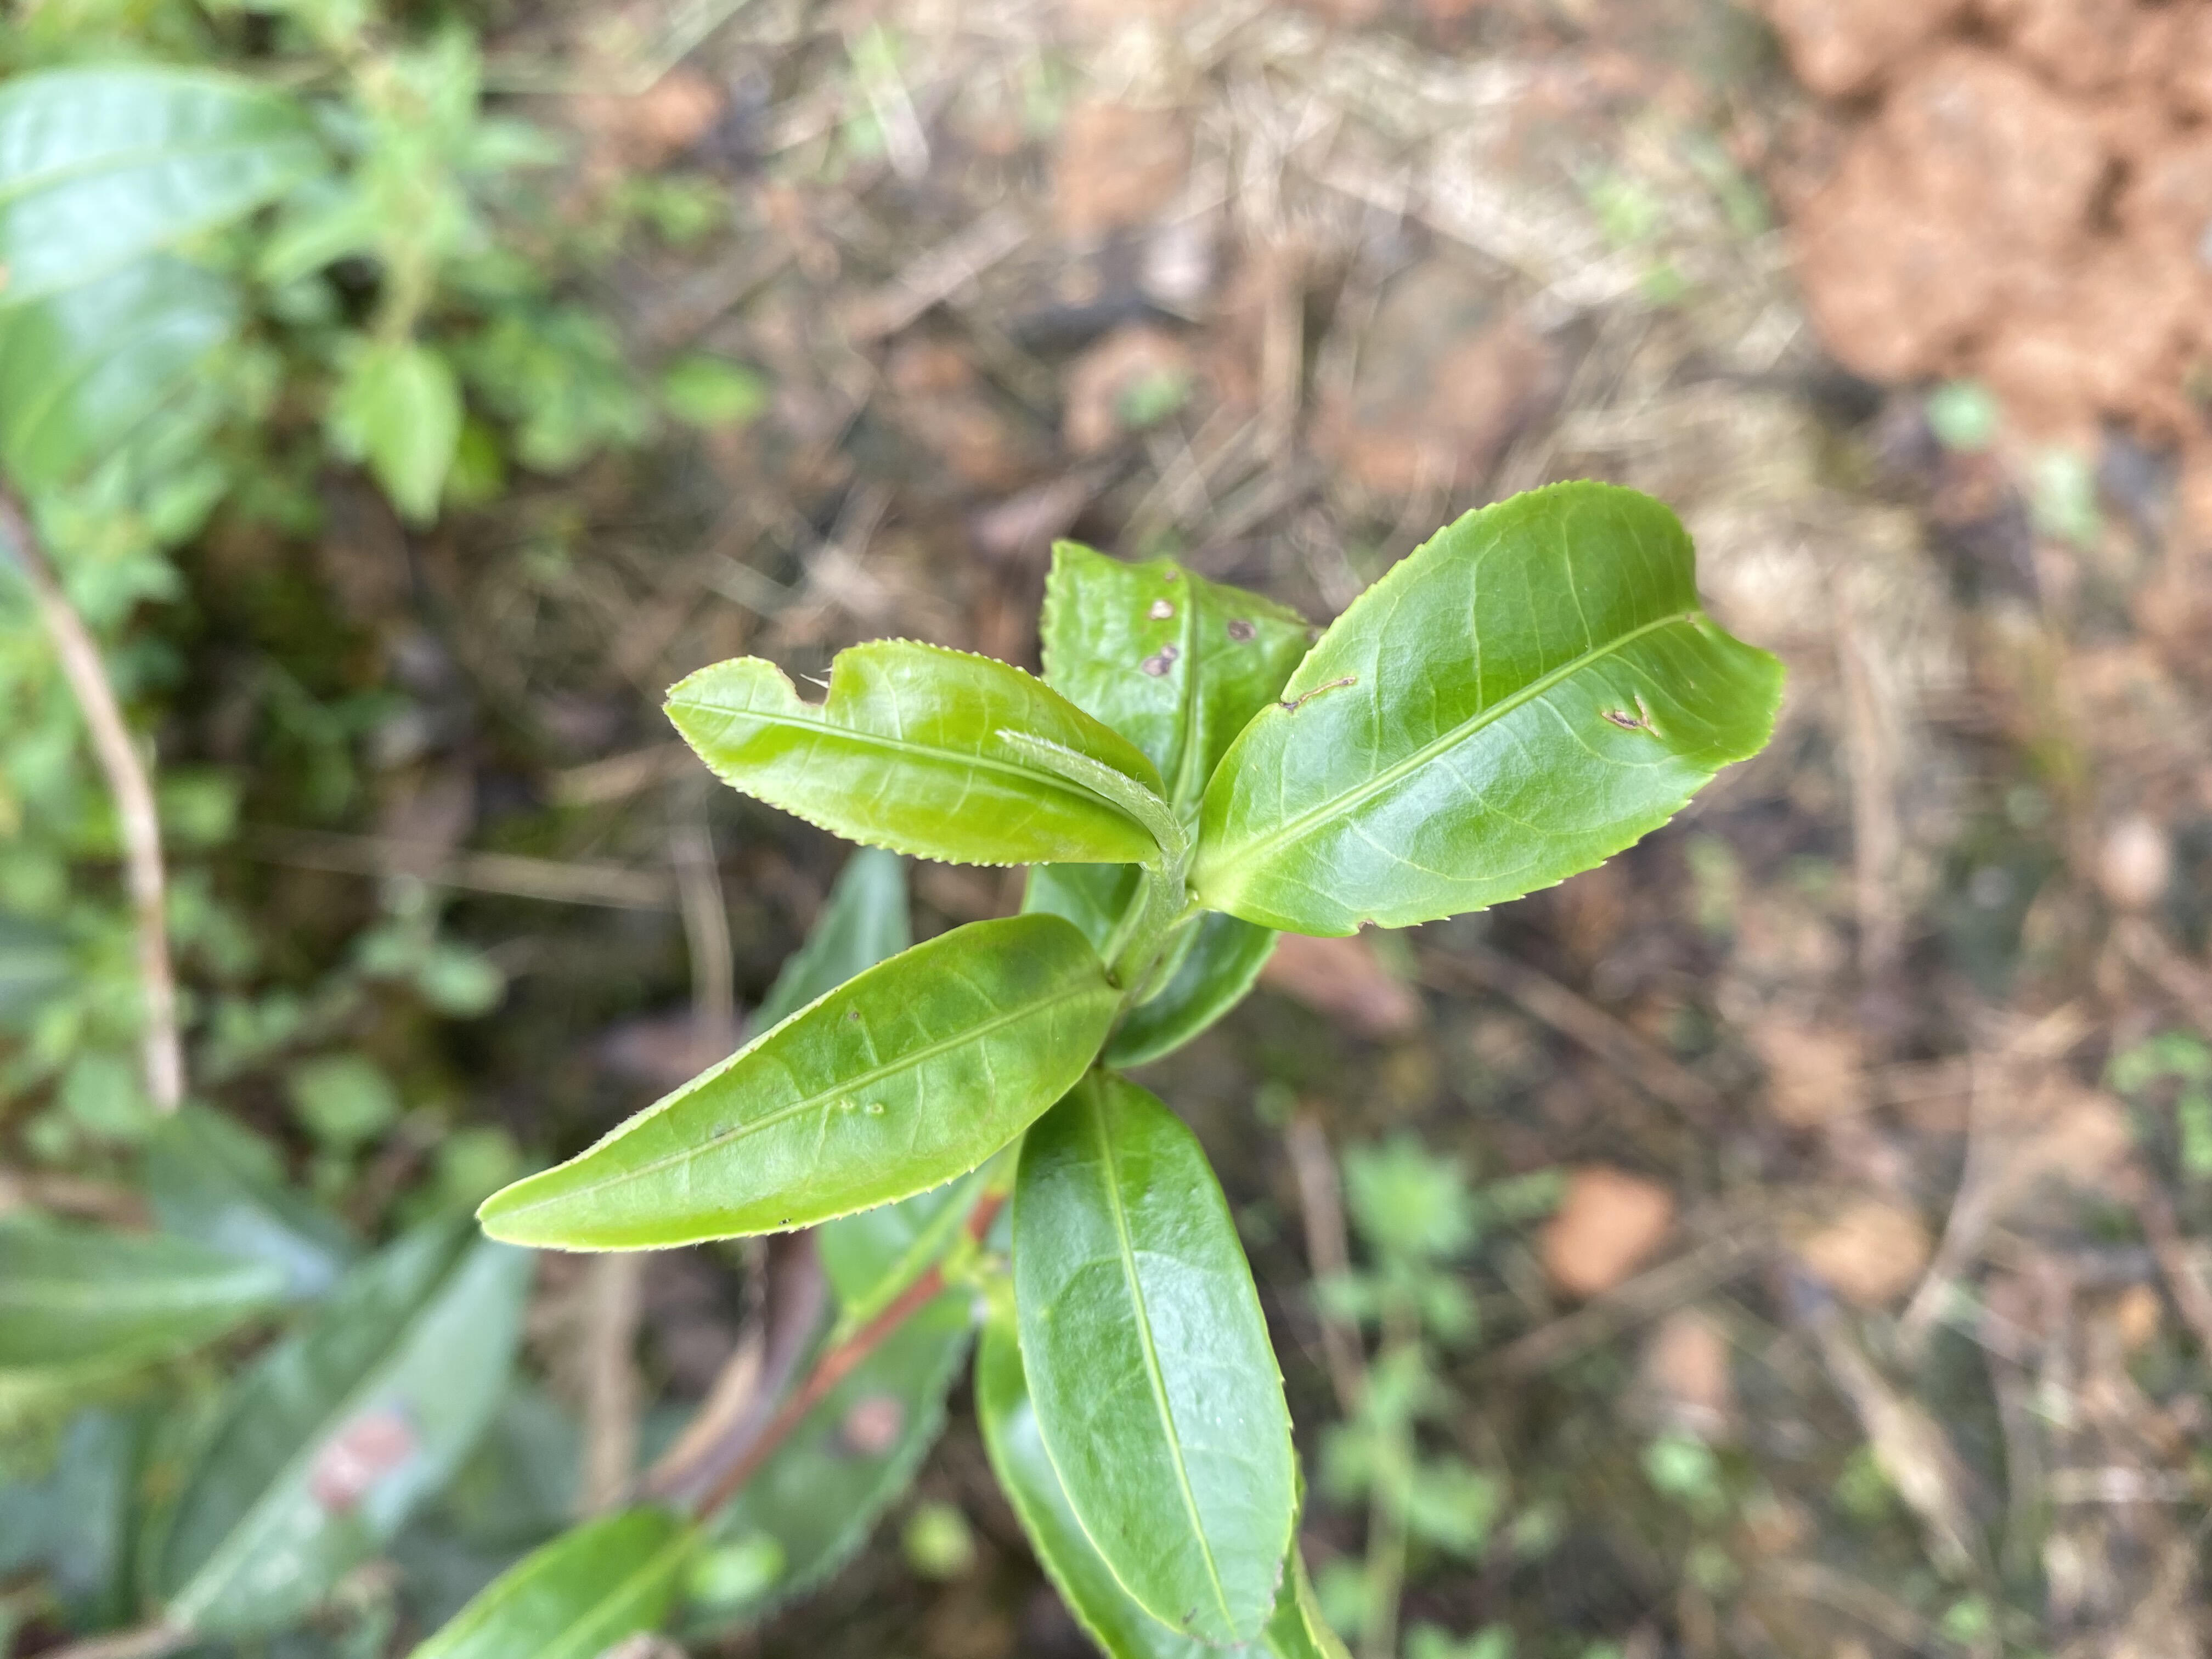chihuo_low: (662, 638, 1170, 871)
healthy: (1014, 1075, 1294, 1643)
tanju_low: (1193, 479, 1782, 943), (1024, 538, 1325, 1072)
